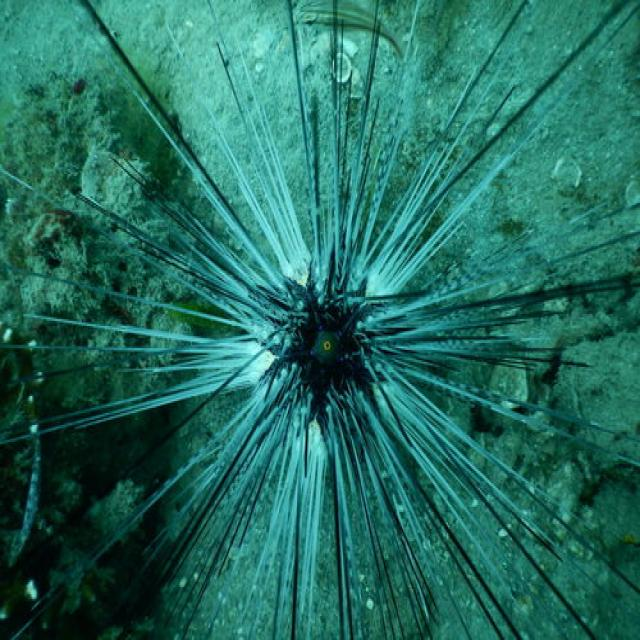Urchin: (46, 26, 609, 616)
